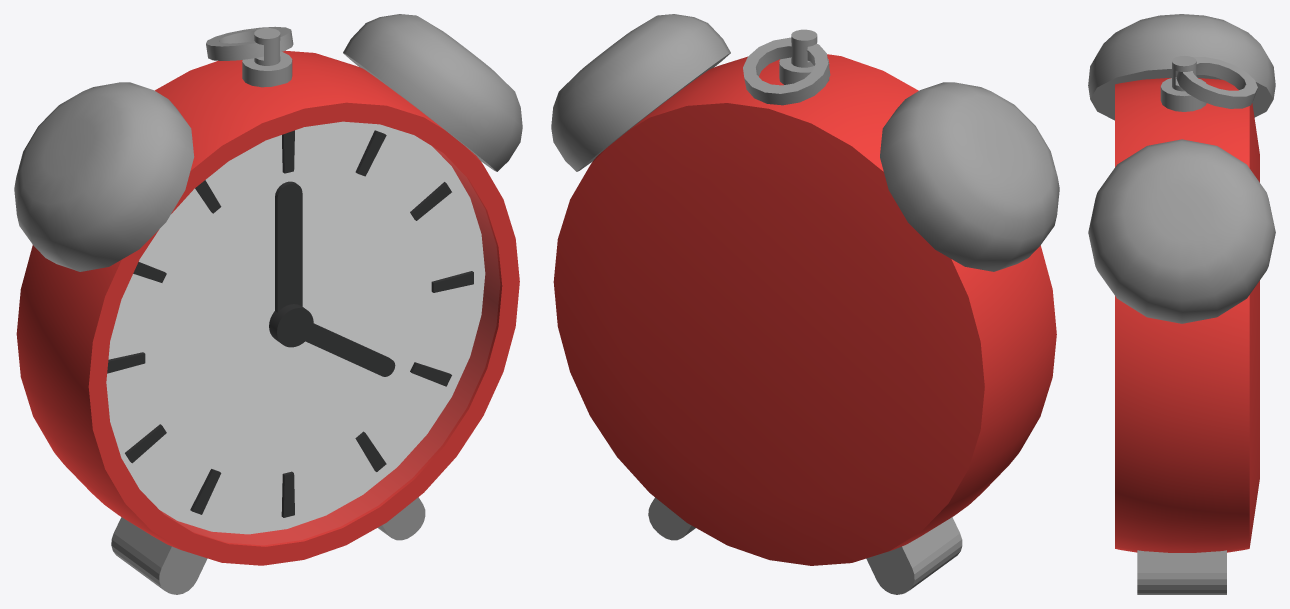
File: alarm_clock.glb
3 renders of one model, left to right at view 1: azimuth 30°, elevation 25°; view 2: azimuth 150°, elevation 25°; view 3: azimuth 270°, elevation 25°, orthographic. The views are drawn at different scales.
Visible parts, largest first — view 1: Circle.2415, Cylinder.463, Circle.2416, Cube.873, Circle.2418, Plane.244, Plane.245; view 2: Circle.2415, Cylinder.463, Cube.873, Circle.2418; view 3: Circle.2415, Cylinder.463, Circle.2418, Cube.873.
Boxes of the visible parts, x1,y1,x2,y2 form: Circle.2415: [16, 50, 519, 565]; Cylinder.463: [14, 14, 522, 271]; Circle.2416: [107, 130, 473, 517]; Cube.873: [111, 497, 425, 594]; Circle.2418: [206, 26, 293, 87]; Plane.244: [275, 181, 302, 312]; Plane.245: [305, 323, 395, 376]; Circle.2415: [553, 54, 1056, 565]; Cylinder.463: [551, 14, 1059, 271]; Cube.873: [648, 497, 962, 594]; Circle.2418: [743, 29, 830, 105]; Circle.2415: [1115, 78, 1259, 552]; Cylinder.463: [1088, 14, 1275, 323]; Circle.2418: [1160, 56, 1257, 111]; Cube.873: [1137, 550, 1226, 594].
Size of the model in its own units: 2.31 by 2.38 by 0.8423.
Materials: 2 (1 with a texture image).
